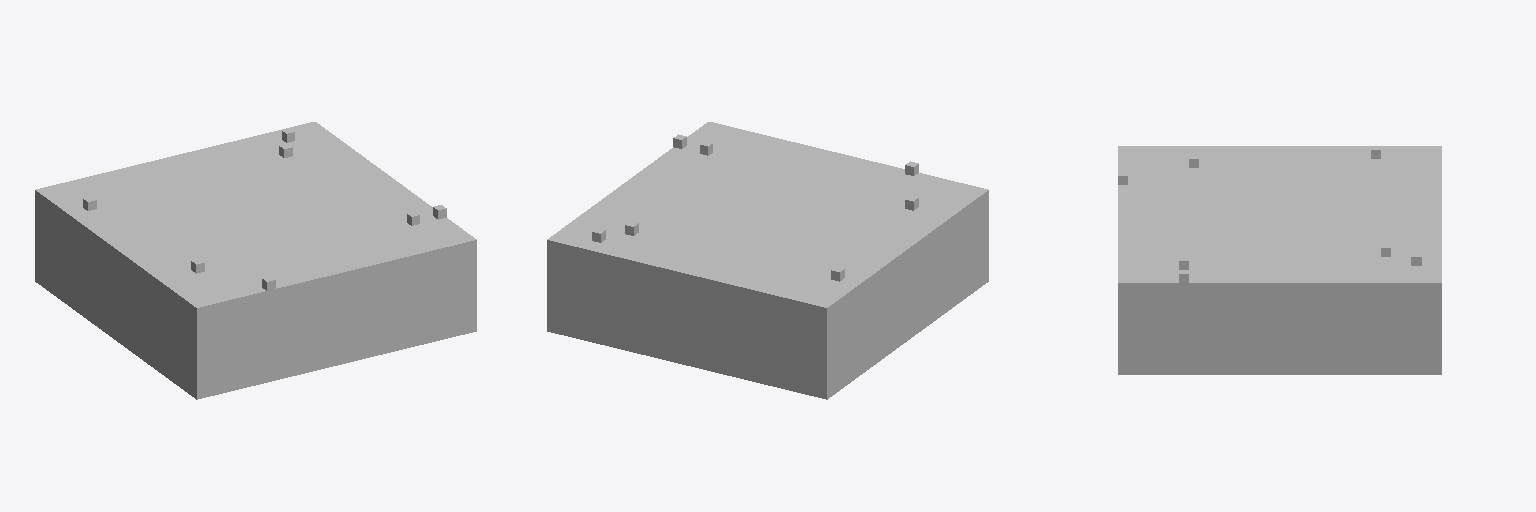
Rendered from GrassTileEmpty.obj.
The picture shows the model from 3 angles: view 1: azimuth 30°, elevation 25°; view 2: azimuth 150°, elevation 25°; view 3: azimuth 270°, elevation 25°; orthographic projection.
Visible parts, largest first — view 1: Untitled, Untitled.001; view 2: Untitled, Untitled.001; view 3: Untitled, Untitled.001.
Boxes of the visible parts, box(x1,y1,x2,y2) form: Untitled: box(35, 122, 476, 399); Untitled.001: box(150, 176, 446, 285); Untitled: box(547, 122, 988, 399); Untitled.001: box(673, 134, 915, 256); Untitled: box(1118, 146, 1441, 374); Untitled.001: box(1129, 155, 1379, 281).
Size of the model in its own units: 3.2 by 1.1 by 3.2.